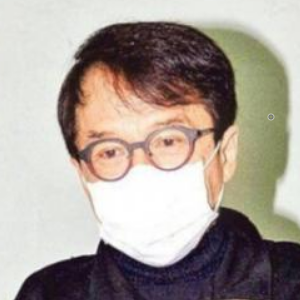mask: (73, 154, 215, 267)
